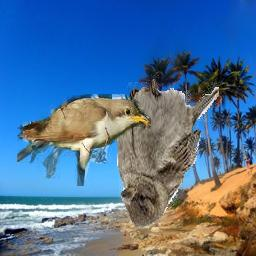Cuckoo: (17, 94, 151, 186)
Sparrow: (117, 67, 219, 227)
